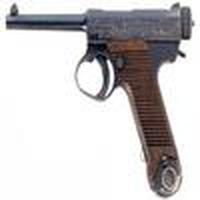gun: (3, 7, 200, 193)
